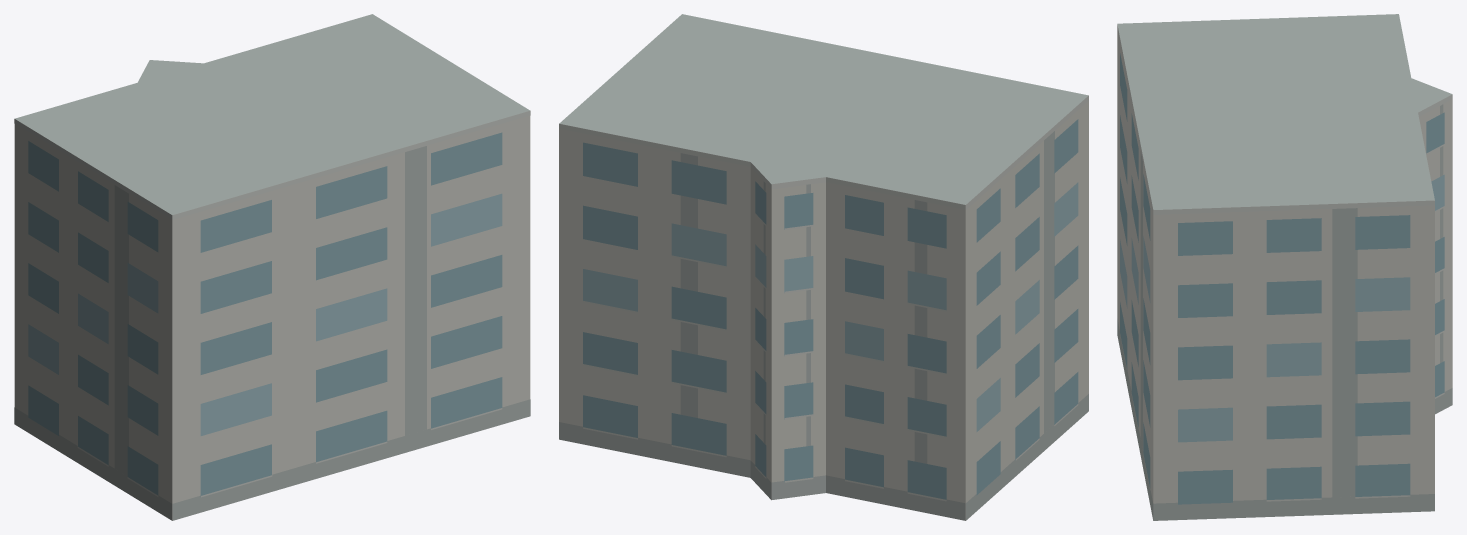
File: survey-upis-32682769.glb
3 views of the same model, side by side, from view 1: azimuth 30°, elevation 25°; view 2: azimuth 150°, elevation 25°; view 3: azimuth 270°, elevation 25° (orthographic). The views are drawn at different scales.
Parts seen in each view (by area): view 1: survey-upis-32682769.tmp; view 2: survey-upis-32682769.tmp; view 3: survey-upis-32682769.tmp.
Part boxes in pixels (box(x1,y1,x2,y2)): survey-upis-32682769.tmp: box(14, 14, 530, 520); survey-upis-32682769.tmp: box(559, 14, 1088, 520); survey-upis-32682769.tmp: box(1117, 14, 1452, 520).
Bounding box in the file's own units: 20.65 × 15.25 × 14.92.
